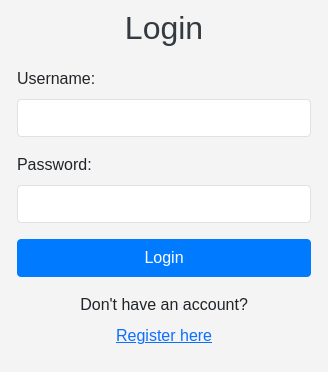
Test: should toggle to register mode
The image size is (328, 372).
What coordinates should you click on to do the following:
click the button "Register here"
I would click on:
 (164, 336)
Its box is [17,317,311,355].
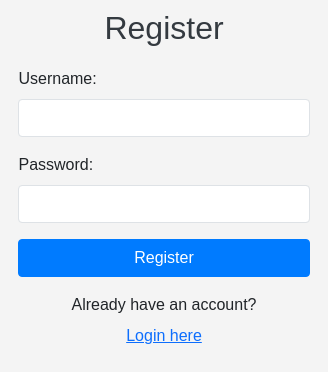
Expected: the button "Register" is shown, [18,239,310,277]
